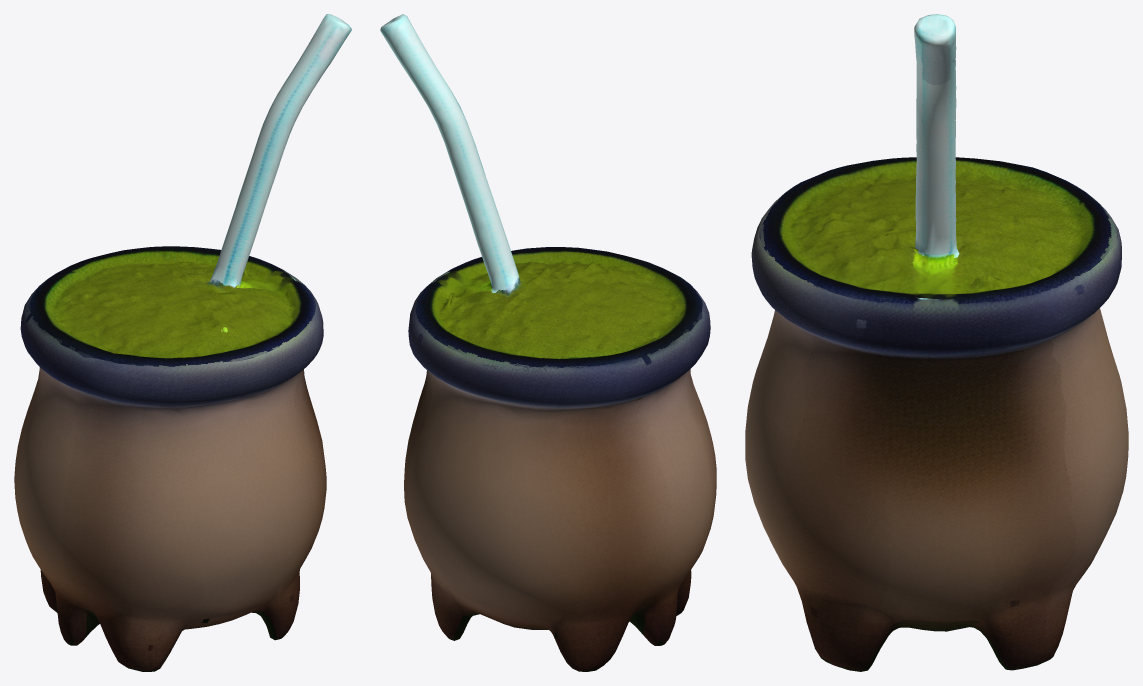
File: mate.glb
3 renders of one model, left to right at view 1: azimuth 30°, elevation 25°; view 2: azimuth 150°, elevation 25°; view 3: azimuth 270°, elevation 25°, orthographic. The views are drawn at different scales.
Visible parts, largest first — view 1: temp_mesh.ply; view 2: temp_mesh.ply; view 3: temp_mesh.ply.
Part boxes in pixels (box(x1,y1,x2,y2)): temp_mesh.ply: box(14, 14, 351, 671); temp_mesh.ply: box(380, 14, 716, 671); temp_mesh.ply: box(745, 14, 1128, 671).
Bounding box in the file's own units: 0.1043 × 0.18 × 0.089.
1 material, 1 textured.
